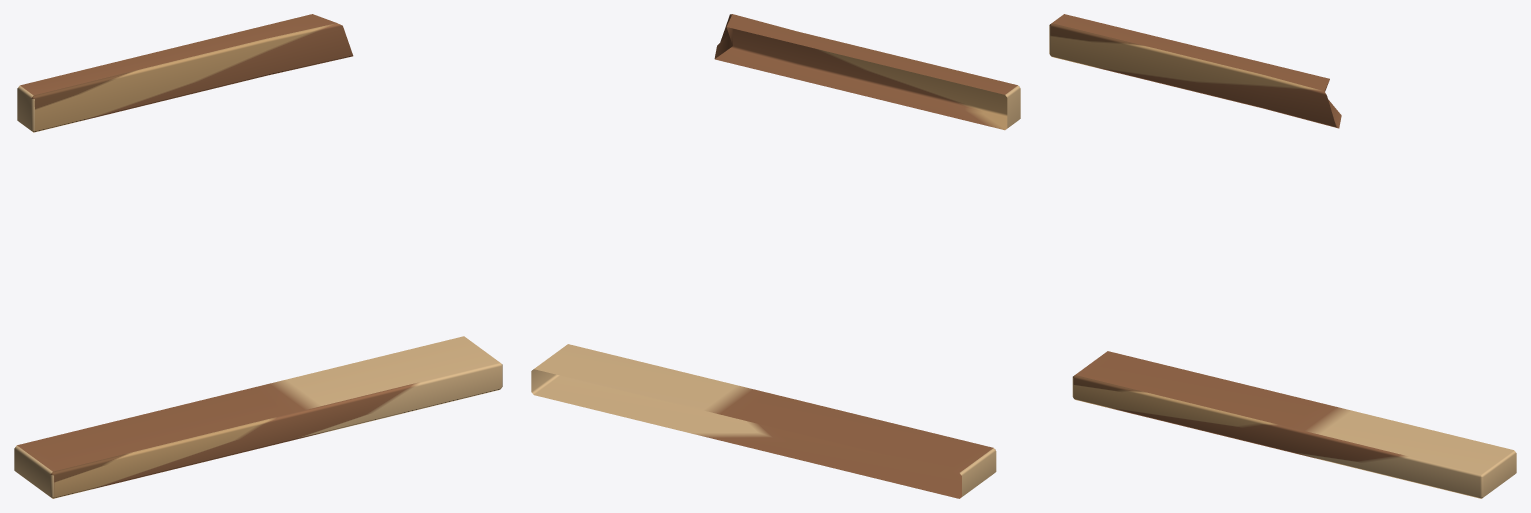
File: DBK_WinDouble_Trim_D_90.fbx
3 renders of one model, left to right at view 1: azimuth 30°, elevation 25°; view 2: azimuth 150°, elevation 25°; view 3: azimuth 330°, elevation 25°, orthographic. The views are drawn at different scales.
Parts seen in each view (by area): view 1: DBK_WinDouble_Trim_D_90; view 2: DBK_WinDouble_Trim_D_90; view 3: DBK_WinDouble_Trim_D_90.
Part boxes in pixels (x1,y1,x2,y2): DBK_WinDouble_Trim_D_90: (14, 14, 502, 498); DBK_WinDouble_Trim_D_90: (531, 14, 1020, 498); DBK_WinDouble_Trim_D_90: (1049, 14, 1516, 498).
Size of the model in its own units: 172 by 142 by 26.6.
